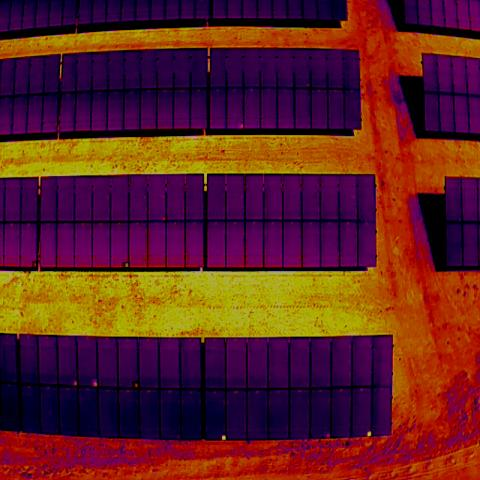fault: (132, 381, 140, 389), (324, 431, 332, 439), (220, 433, 227, 442), (366, 429, 373, 438), (71, 380, 78, 387), (122, 262, 130, 268), (92, 379, 98, 387), (32, 261, 38, 269), (238, 123, 244, 130)
